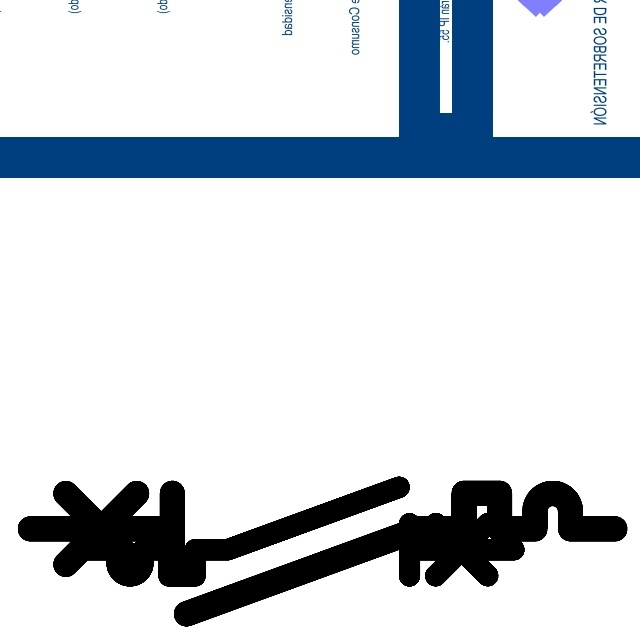interruptor_termomagnetico: (15, 478, 630, 628), (73, 476, 525, 587)
